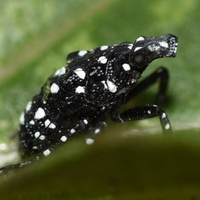insect: (19, 34, 177, 158), (117, 79, 160, 114)
